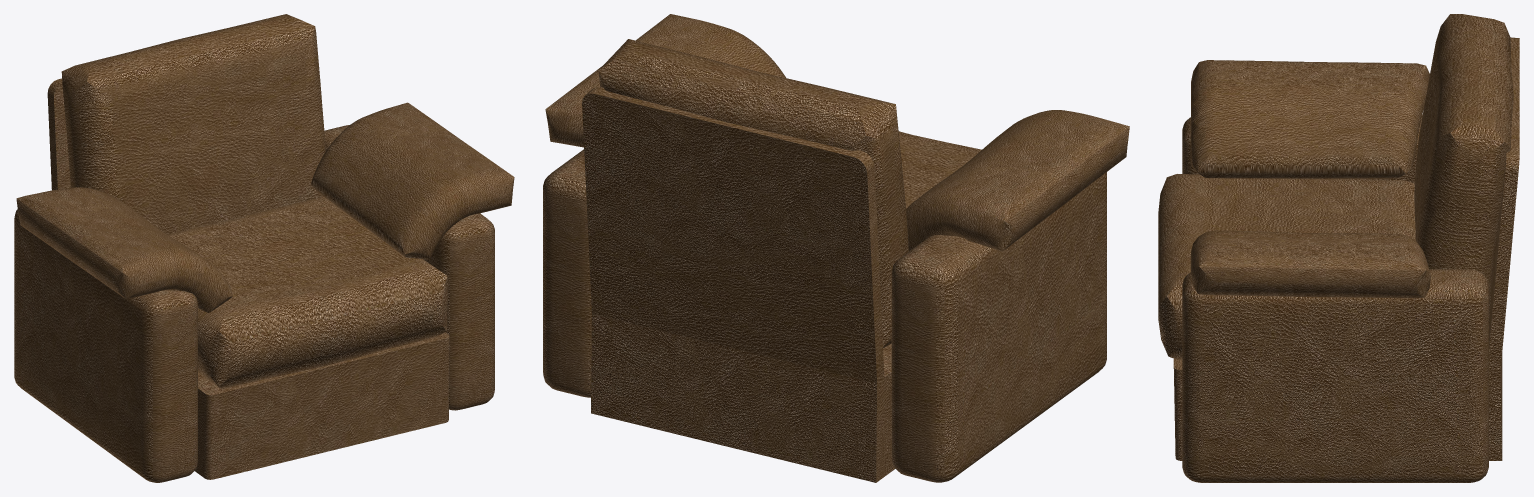
File: SingleSofa.obj
3 views of the same model, side by side, from view 1: azimuth 30°, elevation 25°; view 2: azimuth 150°, elevation 25°; view 3: azimuth 270°, elevation 25° (orthographic). The views are drawn at different scales.
Parts seen in each view (by area): view 1: Group_1_001, Group_3_001, Group_10_002, Component_1_001, Group_2_003, Group_2_001, Group_10_001; view 2: Component_1_001, Group_10_002, Group_1_001, Group_2_001, Group_10_001, Group_2_003, Group_3_001; view 3: Group_10_001, Group_2_001, Group_1_001, Group_3_001, Group_2_003, Component_1_001, Group_10_002.
Boxes of the visible parts, <box> form: Group_1_001: <box>61,14,325,234</box>; Group_3_001: <box>167,196,448,389</box>; Group_10_002: <box>14,209,197,482</box>; Component_1_001: <box>47,78,449,479</box>; Group_2_003: <box>310,102,514,259</box>; Group_2_001: <box>16,187,232,312</box>; Group_10_001: <box>324,125,494,410</box>; Component_1_001: <box>582,87,895,482</box>; Group_10_002: <box>891,172,1106,482</box>; Group_1_001: <box>598,39,908,348</box>; Group_2_001: <box>906,110,1129,251</box>; Group_10_001: <box>543,149,591,397</box>; Group_2_003: <box>545,14,785,147</box>; Group_3_001: <box>898,131,981,208</box>; Group_10_001: <box>1182,269,1488,482</box>; Group_2_001: <box>1190,60,1429,178</box>; Group_1_001: <box>1414,14,1513,321</box>; Group_3_001: <box>1158,174,1415,360</box>; Group_2_003: <box>1190,230,1430,298</box>; Component_1_001: <box>1173,37,1519,460</box>; Group_10_002: <box>1182,114,1422,183</box>.
Size of the model in its own units: 1472 by 1087 by 1084.
